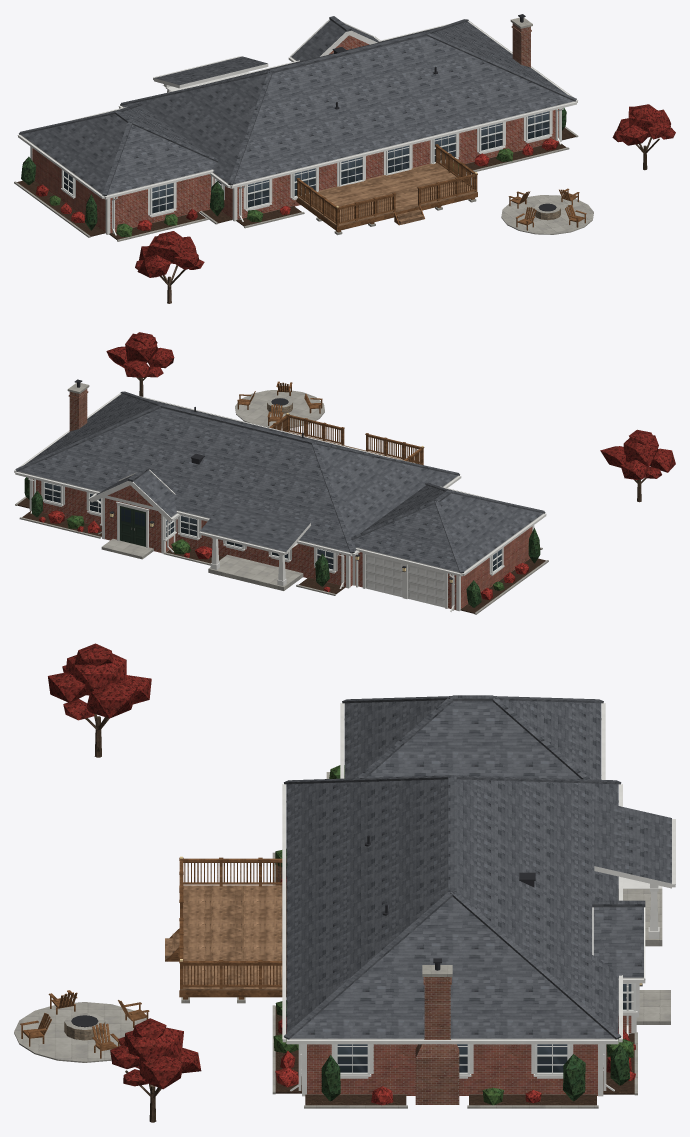
Rendered from se_brick_ranch.fbx.
3 views of the same model, one above another, from view 1: azimuth 30°, elevation 25°; view 2: azimuth 150°, elevation 25°; view 3: azimuth 270°, elevation 25° (orthographic). The views are drawn at different scales.
Parts seen in each view (by area): view 1: se_brick_ranch_LOD0; view 2: se_brick_ranch_LOD0; view 3: se_brick_ranch_LOD0.
Part boxes in pixels (x1=…): se_brick_ranch_LOD0: x1=14, y1=14, x2=675, y2=303; se_brick_ranch_LOD0: x1=14, y1=332, x2=675, y2=614; se_brick_ranch_LOD0: x1=14, y1=643, x2=675, y2=1122.
Size of what is drawn, in the model's own units: 35.58 by 5.74 by 24.3.
Materials: 2 (2 with a texture image).
